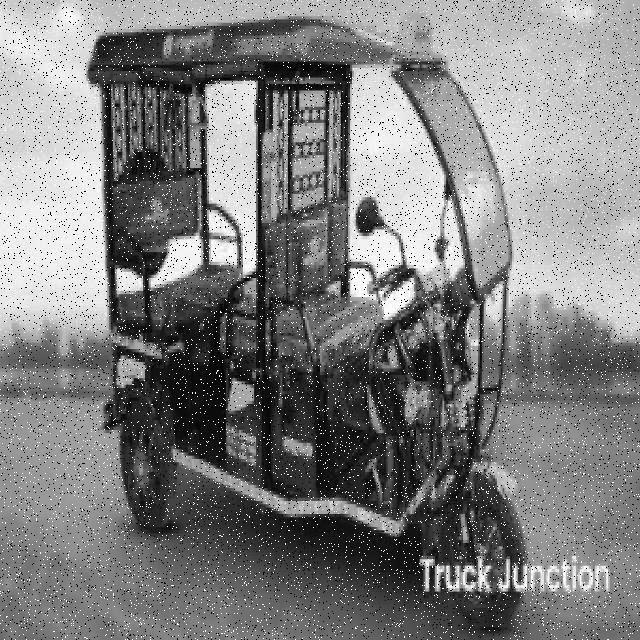Toto: (88, 12, 522, 632)
